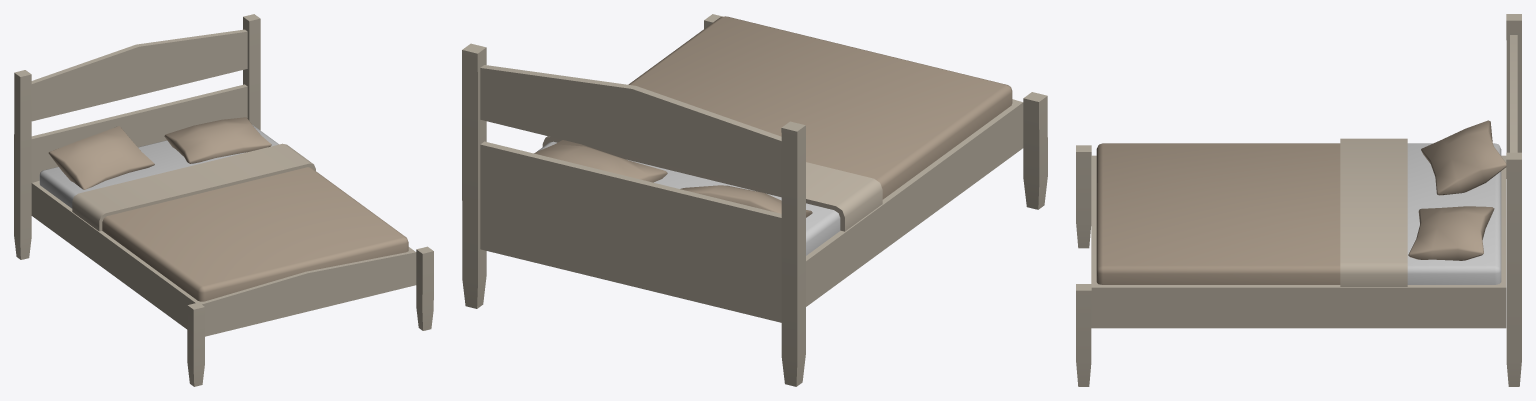
The model's file is Bed.fbx.
3 views of the same model, side by side, from view 1: azimuth 30°, elevation 25°; view 2: azimuth 150°, elevation 25°; view 3: azimuth 270°, elevation 25° (orthographic). The views are drawn at different scales.
Parts seen in each view (by area): view 1: bed; view 2: bed; view 3: bed.
Part boxes in pixels (x1=…): bed: x1=14, y1=14, x2=433, y2=386; bed: x1=462, y1=14, x2=1047, y2=386; bed: x1=1076, y1=14, x2=1521, y2=386.
Size of the model in its own units: 236 by 173 by 306.
